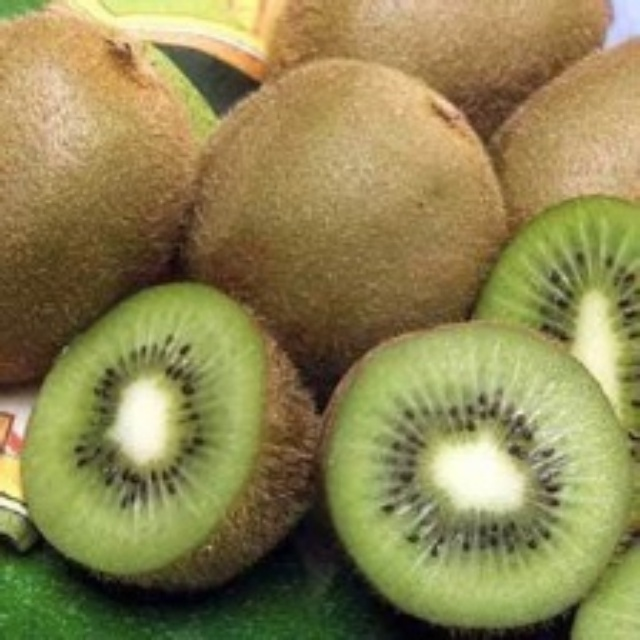kiwi: (335, 335, 623, 618), (40, 288, 313, 586), (199, 88, 486, 368), (12, 22, 184, 389)
